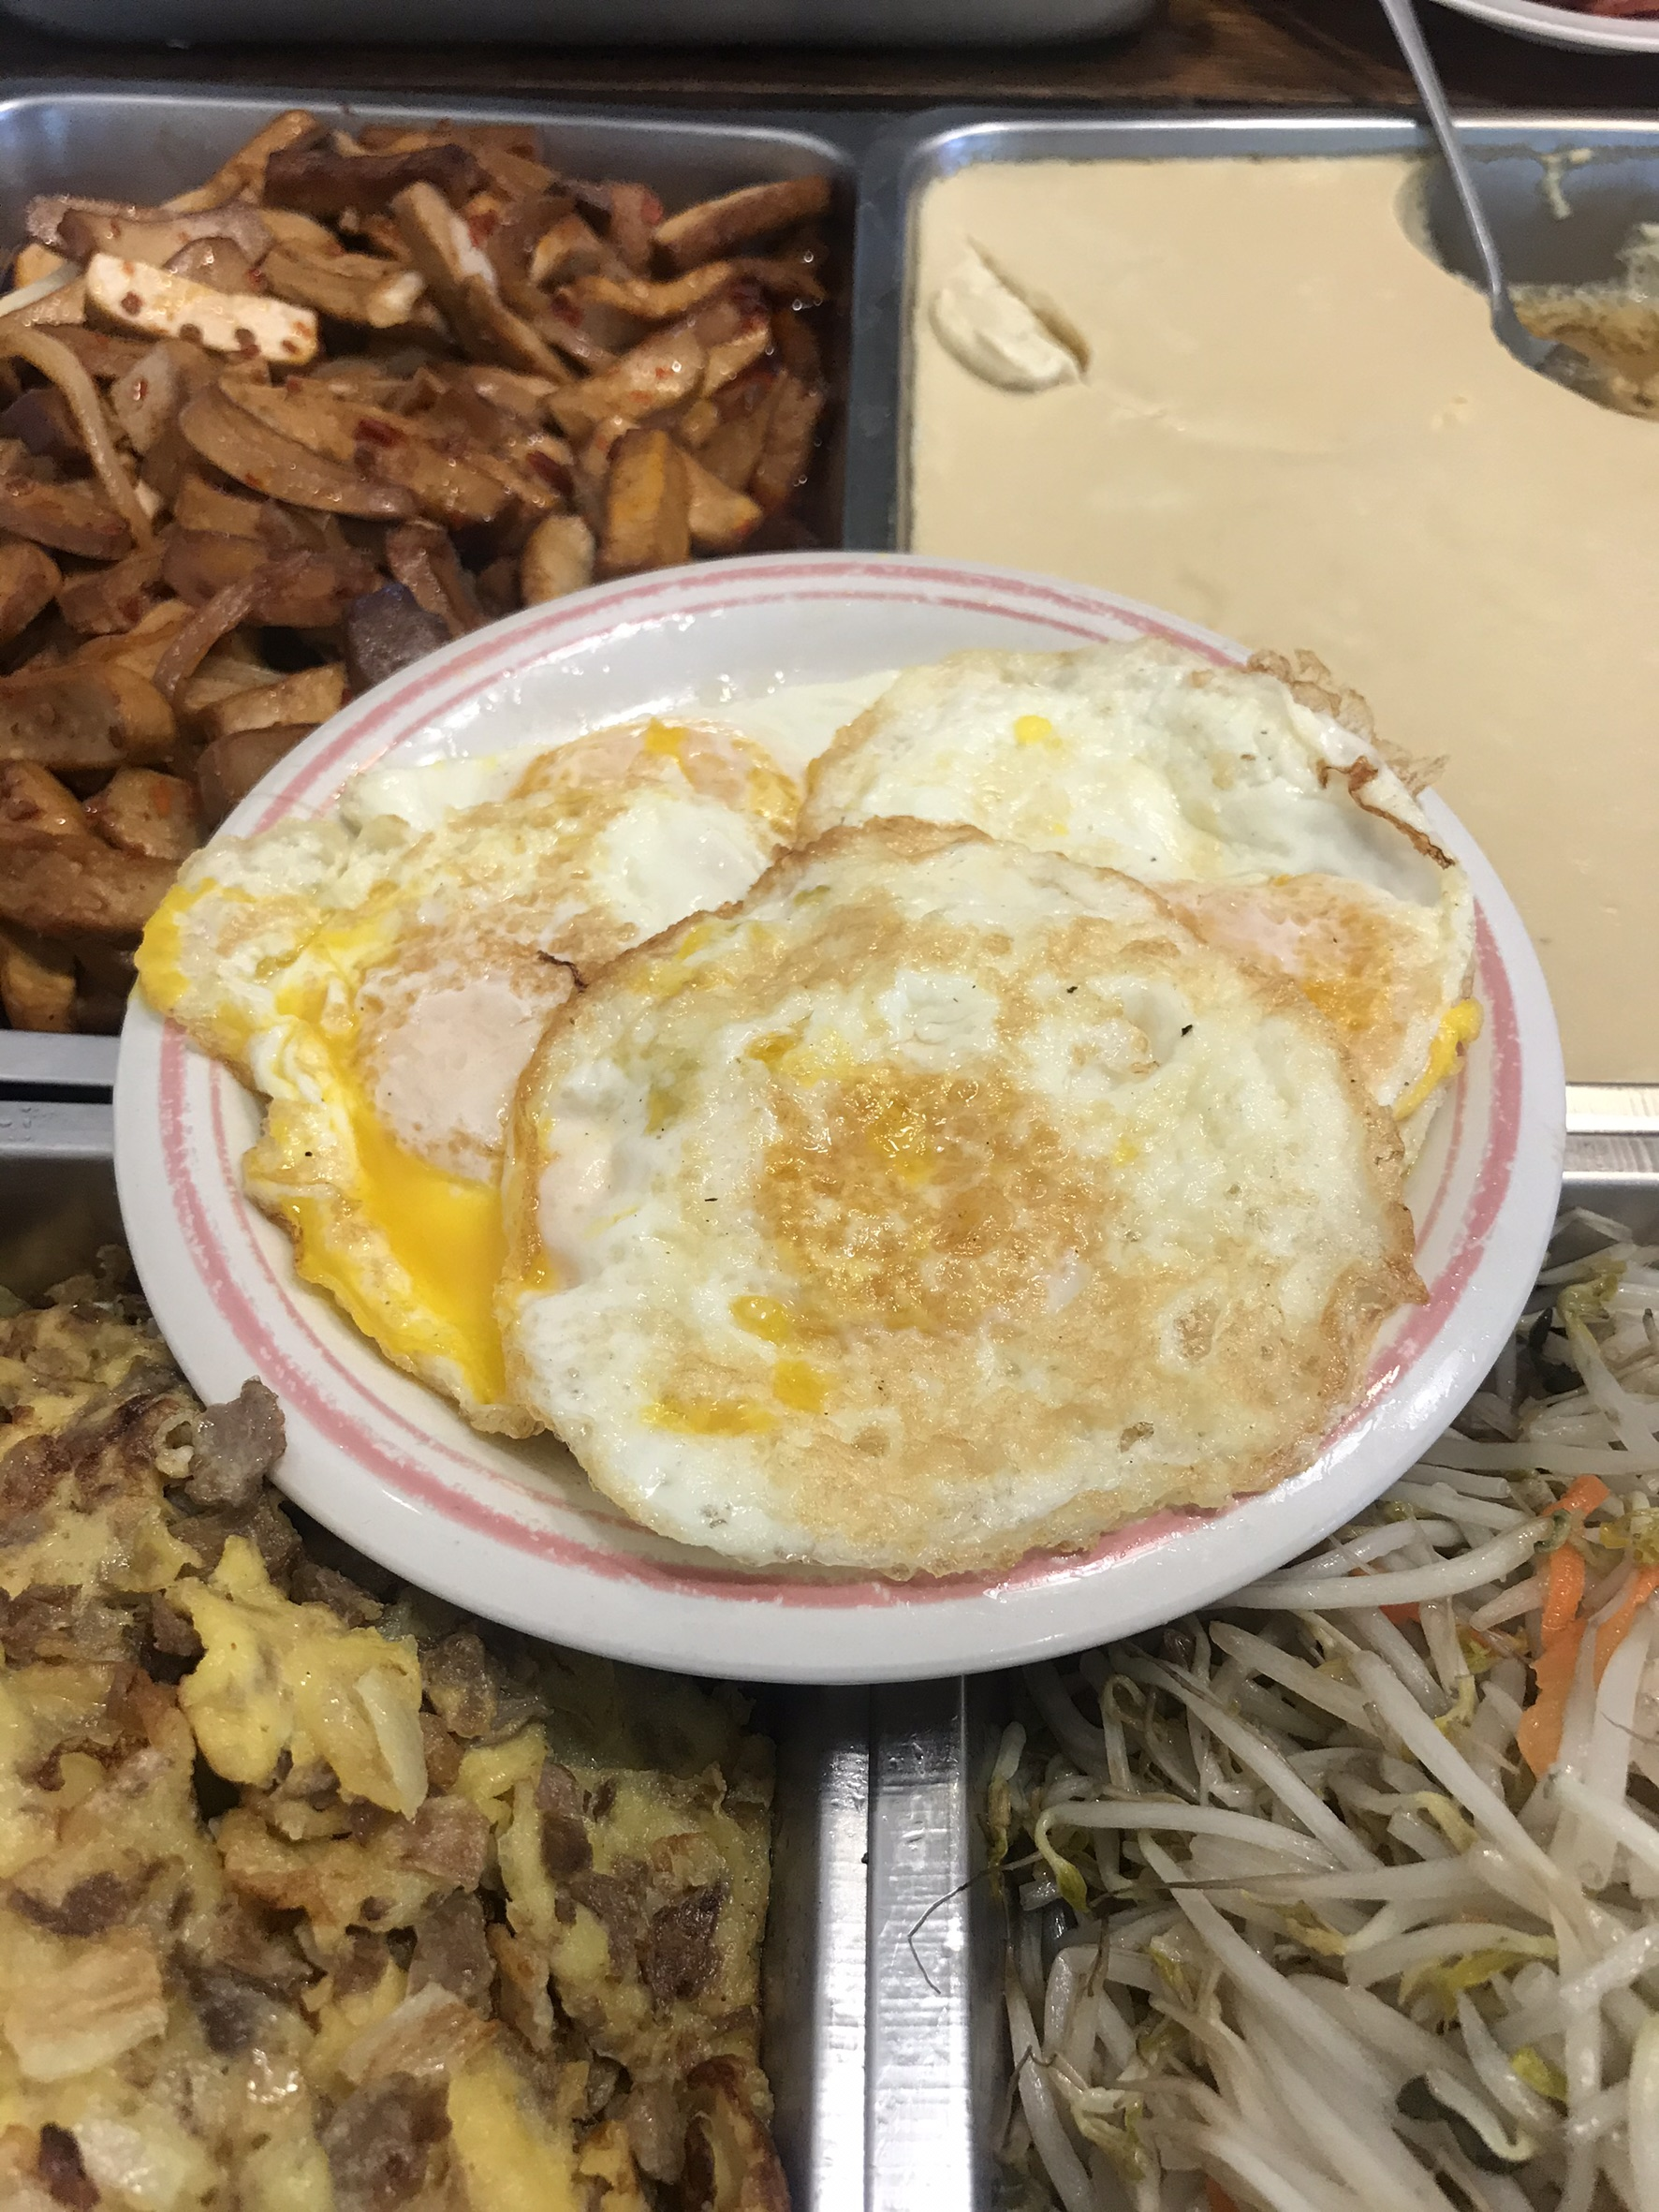fried_eggs: (166, 628, 1478, 1569)
mung_bean_sprouts: (1019, 1686, 1659, 2212)
